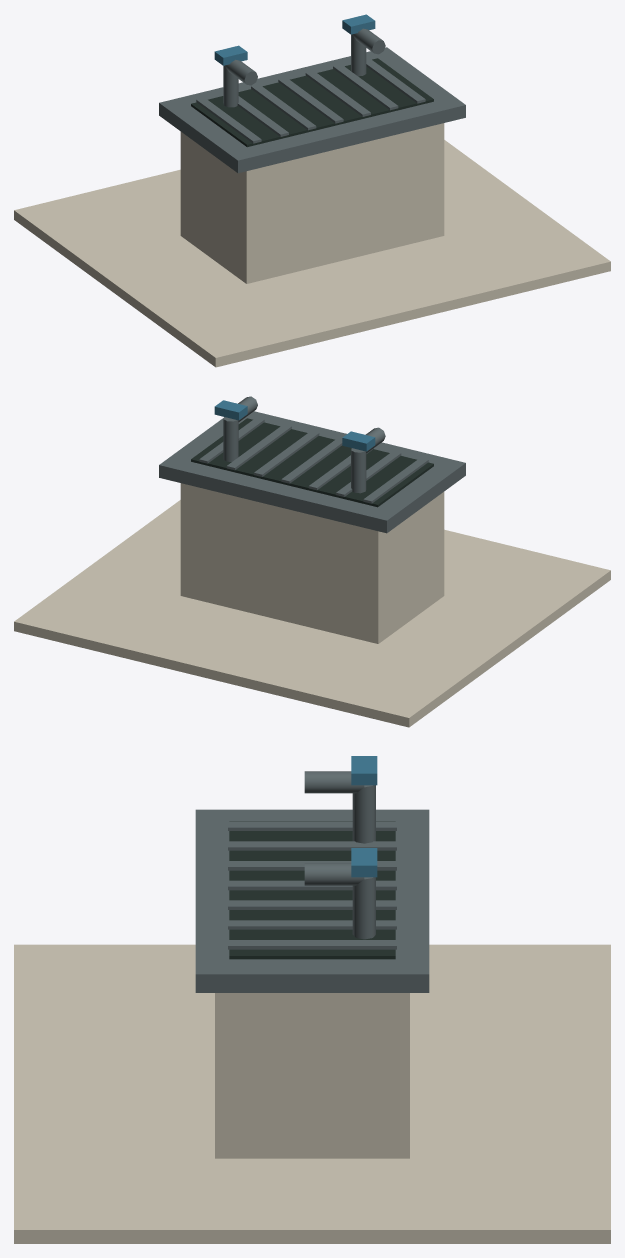
3 renders of one model, top to bottom at view 1: azimuth 30°, elevation 25°; view 2: azimuth 150°, elevation 25°; view 3: azimuth 270°, elevation 25°, orthographic. The views are drawn at different scales.
Parts seen in each view (by area): view 1: 음수대; view 2: 음수대; view 3: 음수대.
Boxes of the visible parts, bbox=[...] form: 음수대: bbox=[14, 14, 610, 367]; 음수대: bbox=[14, 396, 610, 727]; 음수대: bbox=[14, 756, 610, 1243].
Bounding box in the file's own units: 2.6 × 1.24 × 2.3.
